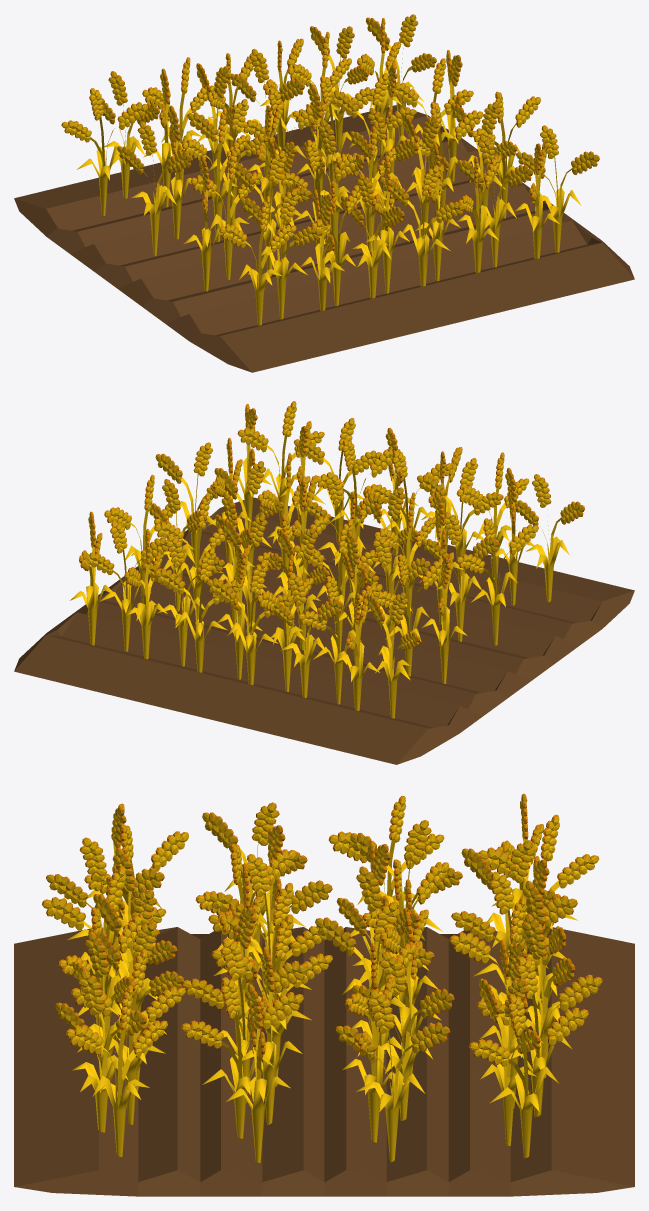
The model's file is wheat-stage3-w-Dirt.glb.
3 renders of one model, top to bottom at view 1: azimuth 30°, elevation 25°; view 2: azimuth 150°, elevation 25°; view 3: azimuth 270°, elevation 25°, orthographic. The views are drawn at different scales.
Parts seen in each view (by area): view 1: Soil.012, Wheat_F3; view 2: Soil.012, Wheat_F3; view 3: Soil.012, Wheat_F3.
Boxes of the visible parts, x1,y1,x2,y2 form: Soil.012: [14, 105, 634, 372]; Wheat_F3: [61, 14, 599, 325]; Soil.012: [14, 497, 634, 764]; Wheat_F3: [70, 401, 584, 718]; Soil.012: [14, 927, 634, 1196]; Wheat_F3: [42, 793, 602, 1162].
Size of the model in its own units: 2.5 by 0.7684 by 2.5.
Materials: 2 (1 with a texture image).
